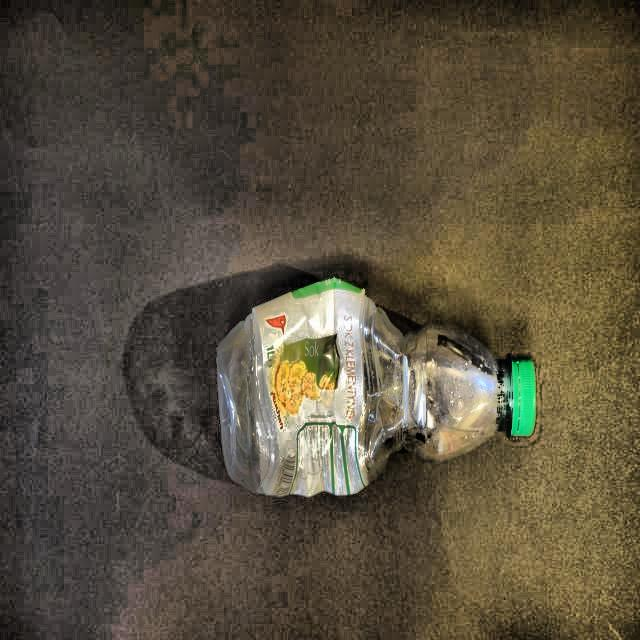plastic bottle: (218, 279, 536, 497)
